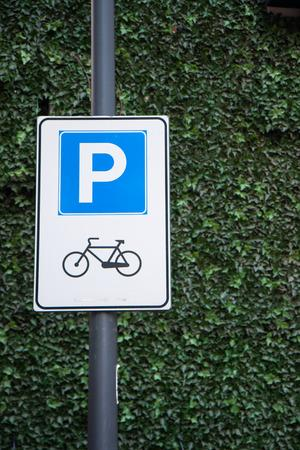parking: (58, 130, 146, 214)
